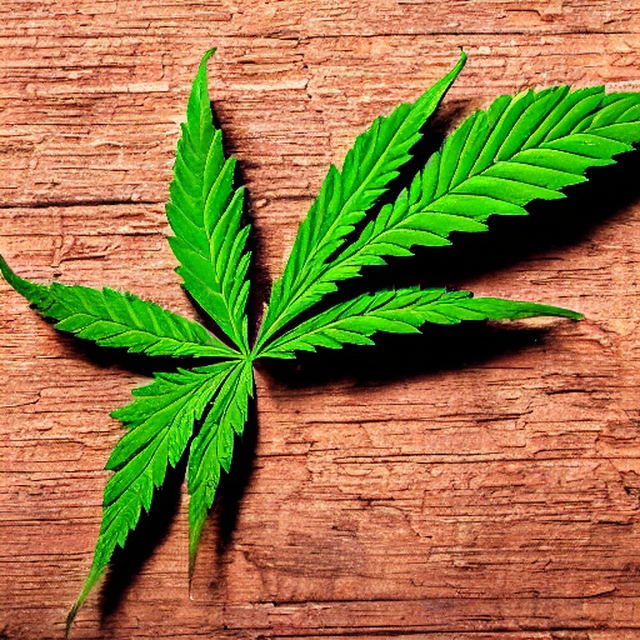Marijuana Leaf: (1, 43, 638, 632)
